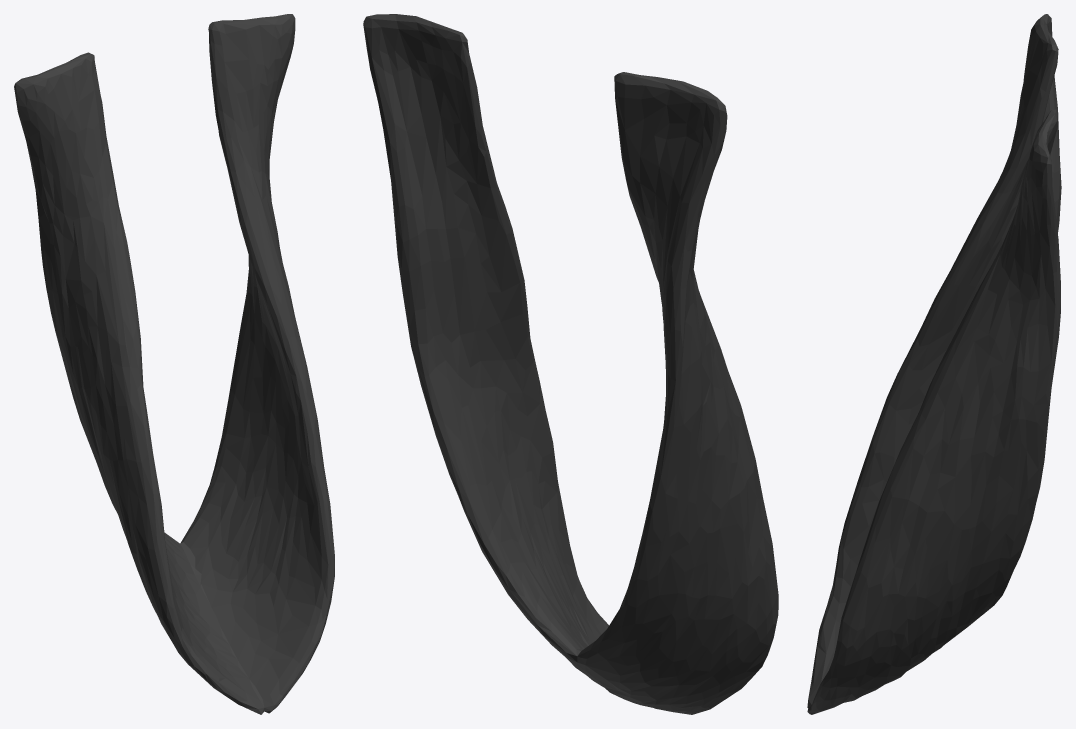
Rendered from m_cleidocephalicus_pars_cervicalis.glb.
3 renders of one model, left to right at view 1: azimuth 30°, elevation 25°; view 2: azimuth 150°, elevation 25°; view 3: azimuth 270°, elevation 25°, orthographic. The views are drawn at different scales.
Parts seen in each view (by area): view 1: m_cleidocephalicus_pars_cervicalis; view 2: m_cleidocephalicus_pars_cervicalis; view 3: m_cleidocephalicus_pars_cervicalis.
Part boxes in pixels (<box>): m_cleidocephalicus_pars_cervicalis: <box>14,14,334,714</box>; m_cleidocephalicus_pars_cervicalis: <box>363,14,778,714</box>; m_cleidocephalicus_pars_cervicalis: <box>807,14,1061,714</box>.
Size of the model in its own units: 0.00373 by 0.00754 by 0.00273.
Materials: 1 (1 with a texture image).
